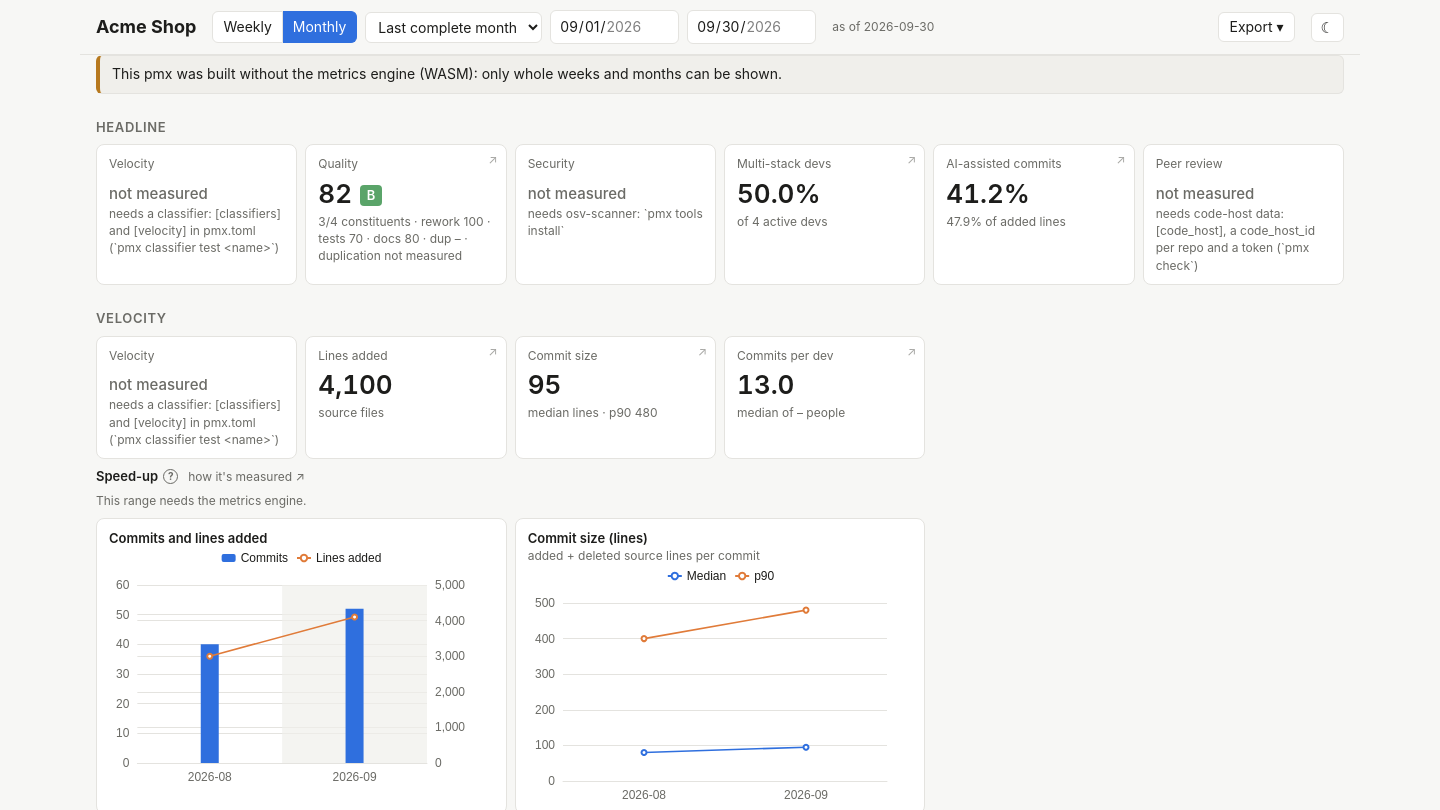
it: <App> › explains ranges it cannot compute without the engine
The width and height of the screenshot is (1440, 810).
Select "Last 3 months" in the dropdown named "Range": coordinates (454, 27) [365,12,542,43]
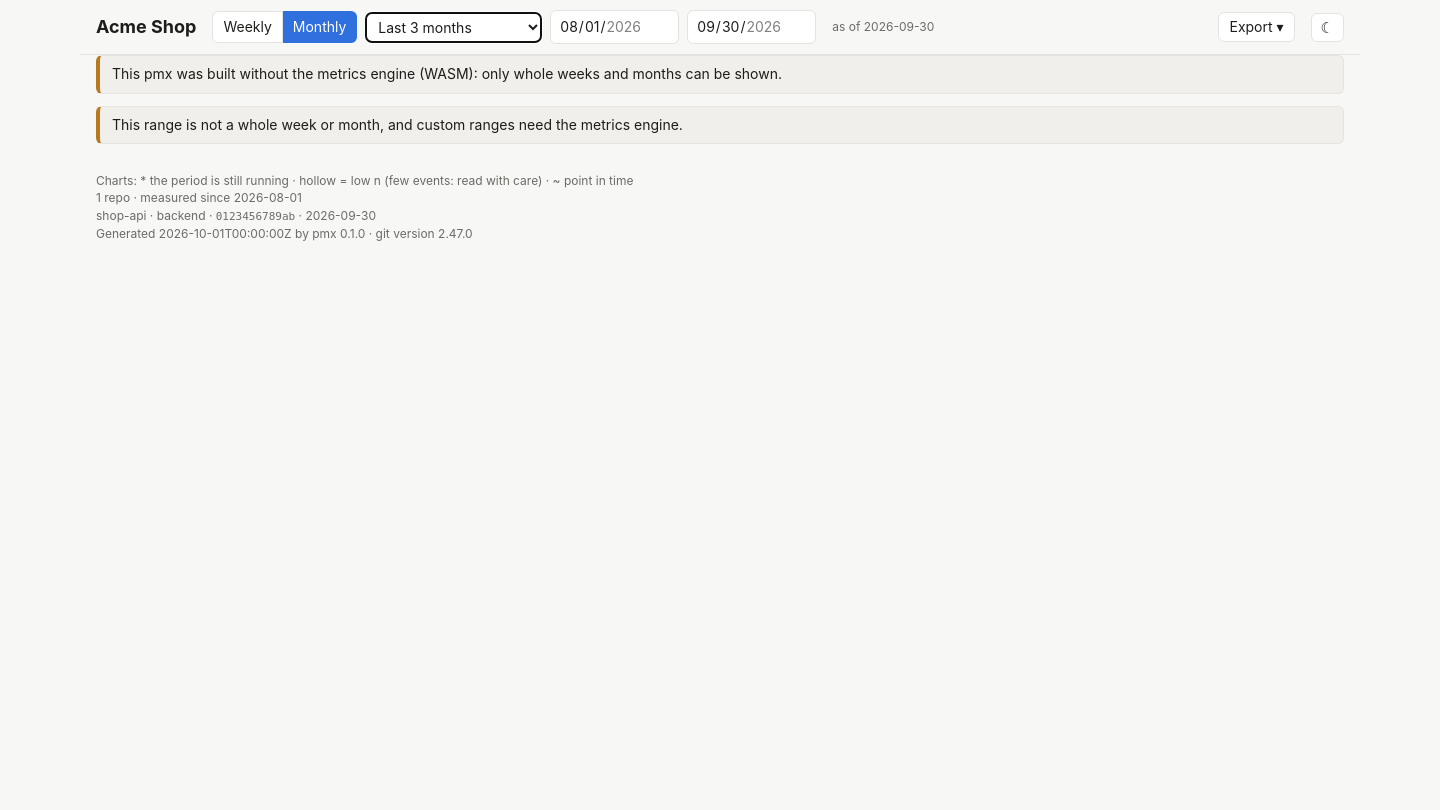
Expected: the text "not a whole week or month" is shown, [112,116,683,133]
